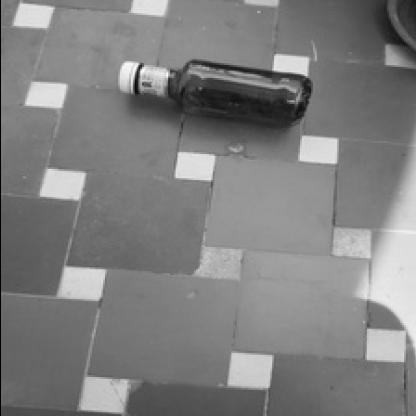plastic_bottles: (108, 48, 318, 134)
